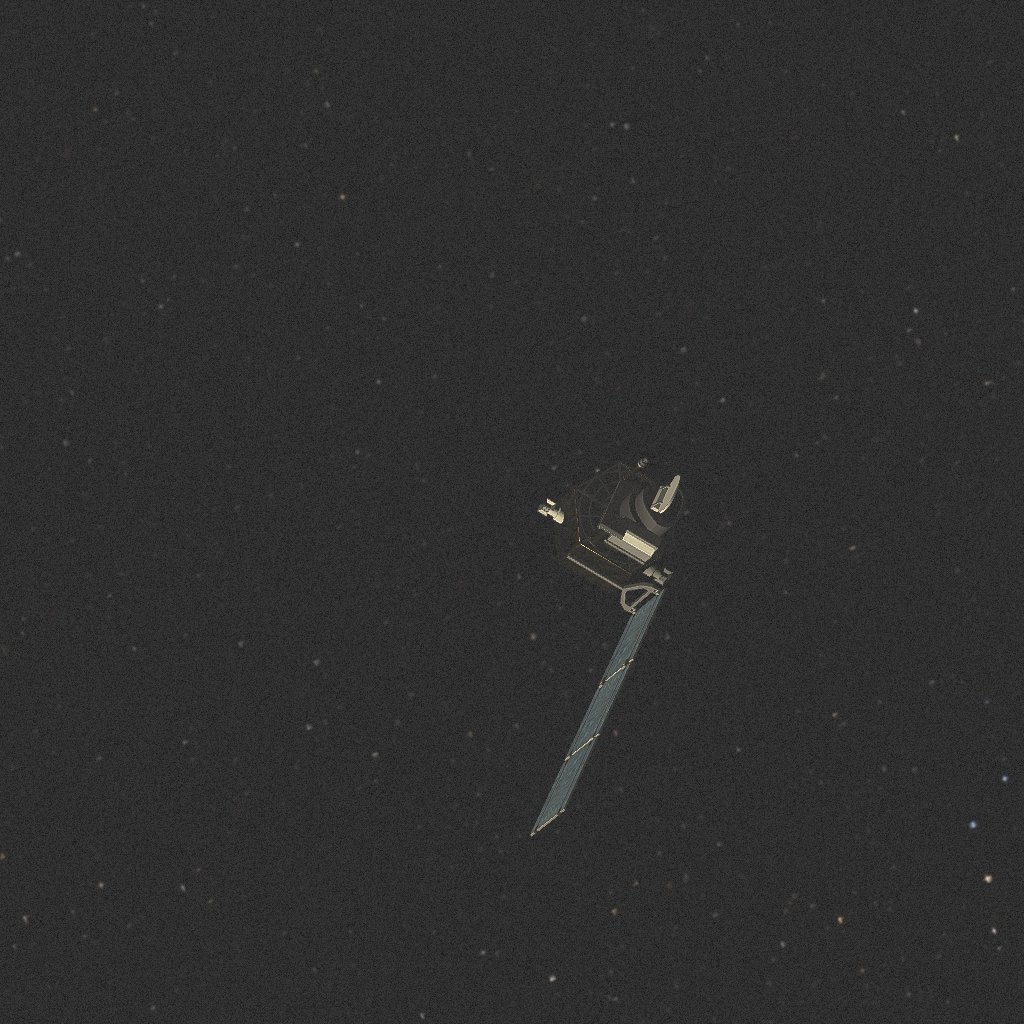earth_observation_sat_1: (530, 457, 686, 836)
